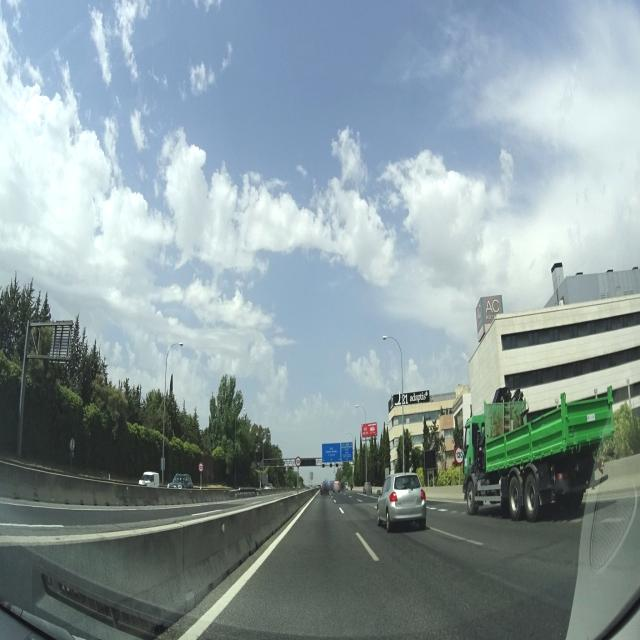car: (376, 471, 427, 532), (168, 472, 193, 490), (138, 472, 160, 488), (320, 481, 329, 495)
